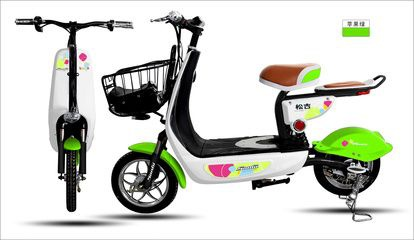non-vehicle: (113, 11, 387, 222), (11, 12, 135, 212)
